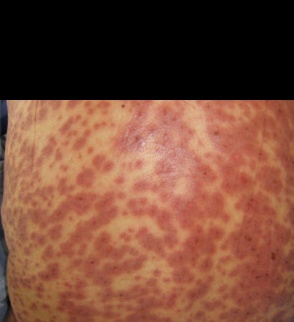SJS-TEN: (4, 102, 288, 320)
